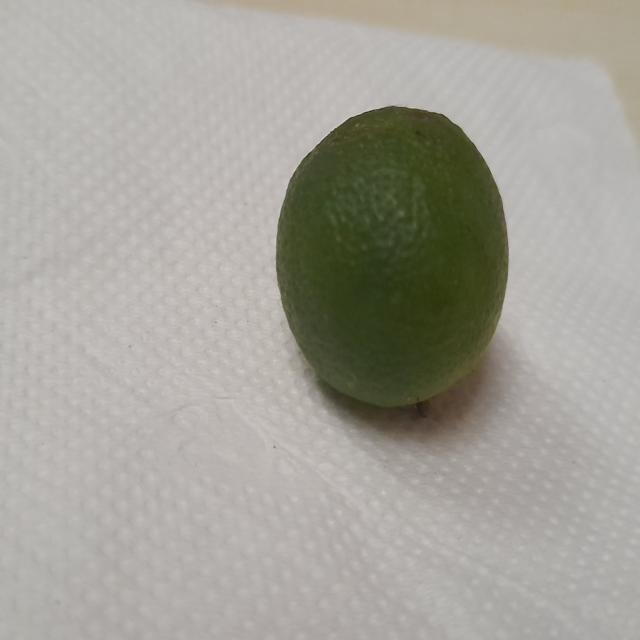heathy: (273, 95, 515, 429)
